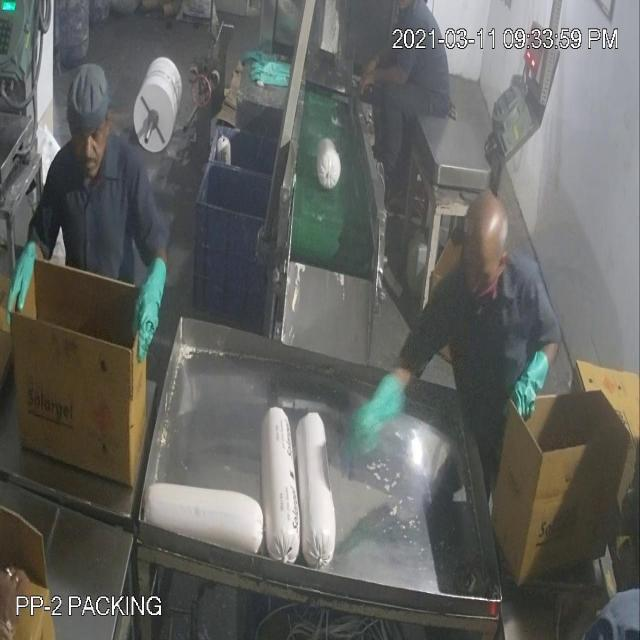No_Gloves: (352, 60, 417, 104)
